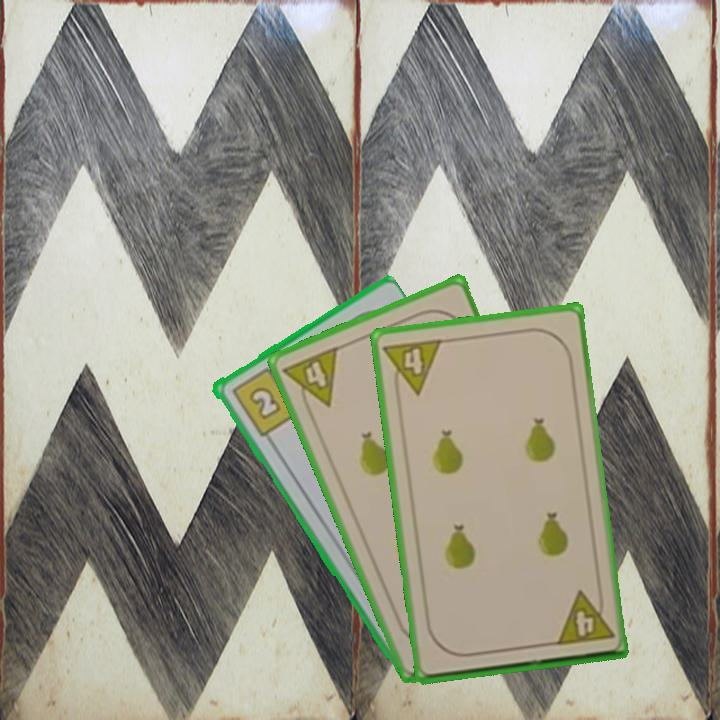2b: (227, 361, 300, 439)
4p: (279, 342, 341, 417), (380, 335, 445, 400), (552, 586, 617, 648)
